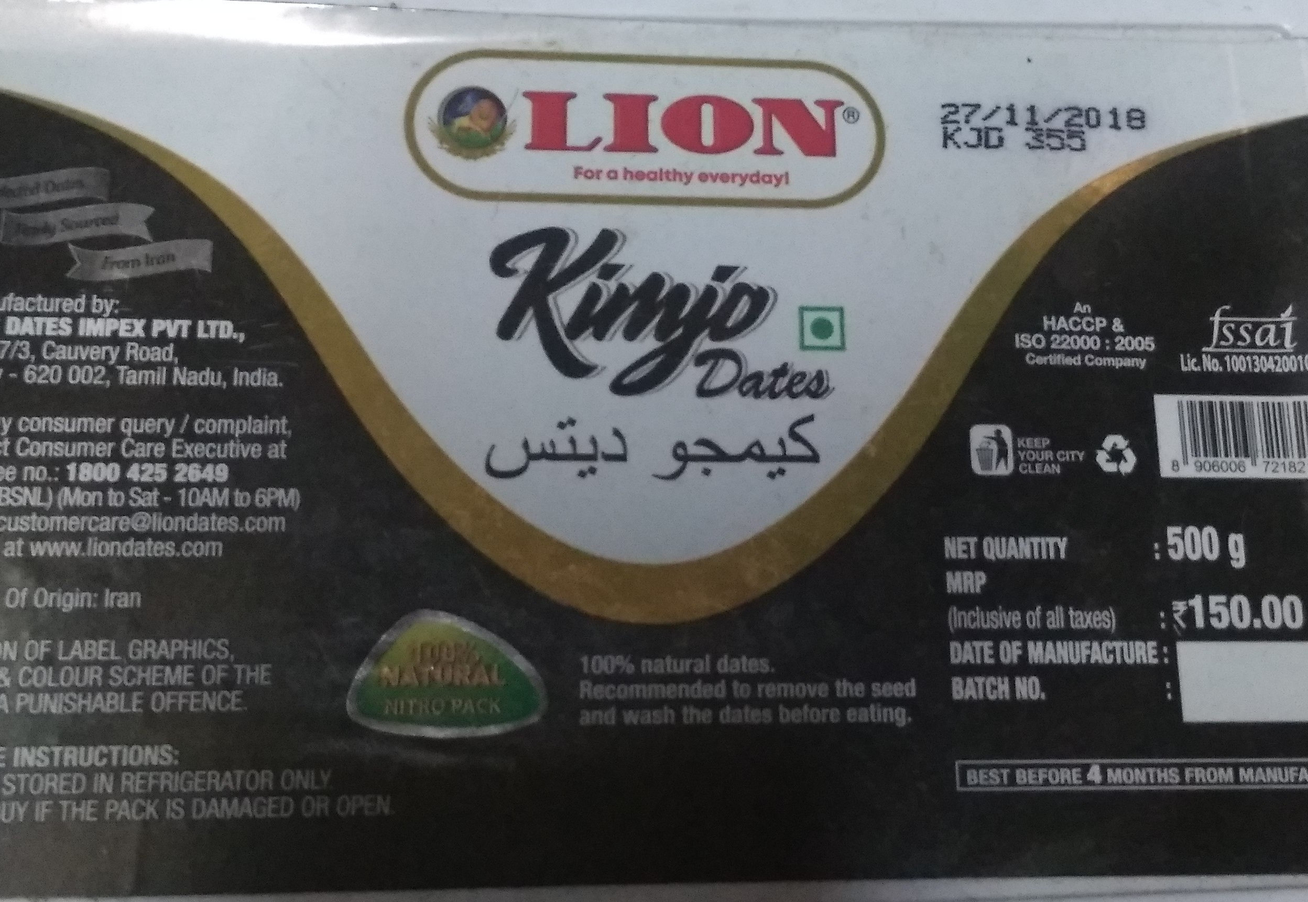lion kimjo Dates: (65, 45, 1243, 857)
